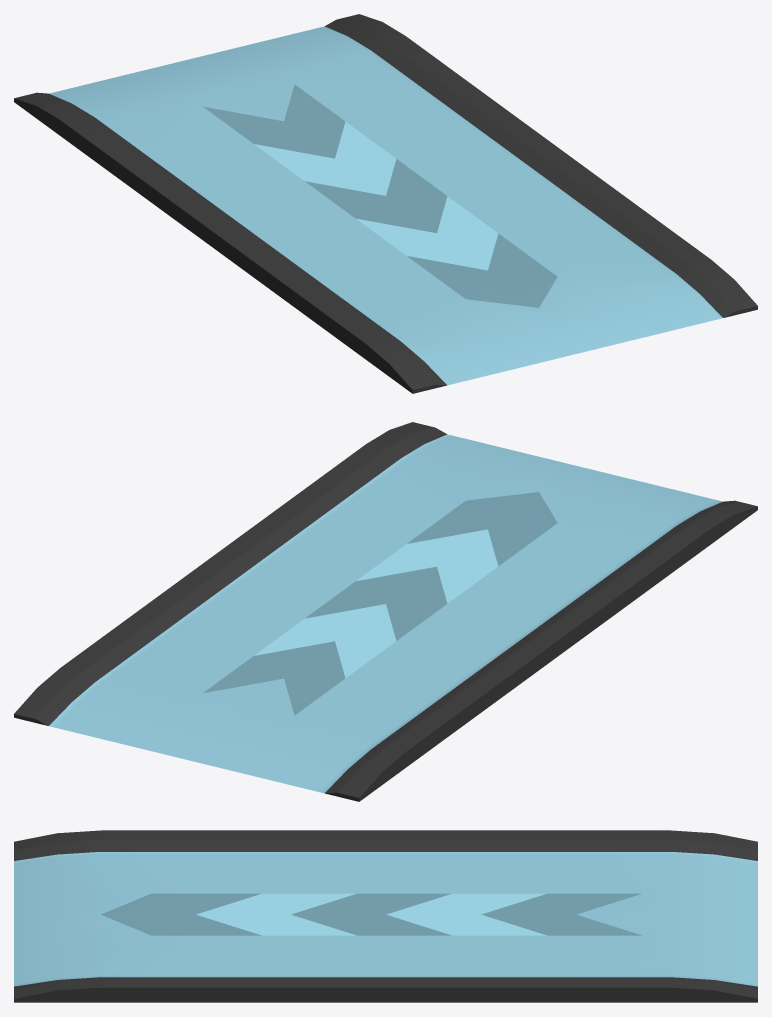
File: BoostPad.fbx
The picture shows the model from 3 angles, top to bottom: view 1: azimuth 30°, elevation 25°; view 2: azimuth 150°, elevation 25°; view 3: azimuth 270°, elevation 25°; orthographic projection. The views are drawn at different scales.
Parts seen in each view (by area): view 1: BoostPad; view 2: BoostPad; view 3: BoostPad.
Boxes of the visible parts, x1=… form: BoostPad: x1=14, y1=14, x2=757, y2=393; BoostPad: x1=14, y1=422, x2=757, y2=801; BoostPad: x1=14, y1=830, x2=757, y2=1002.
Bounding box in the file's own units: 333 × 14.61 × 666.
